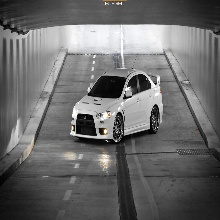no damage: (69, 67, 164, 143)
